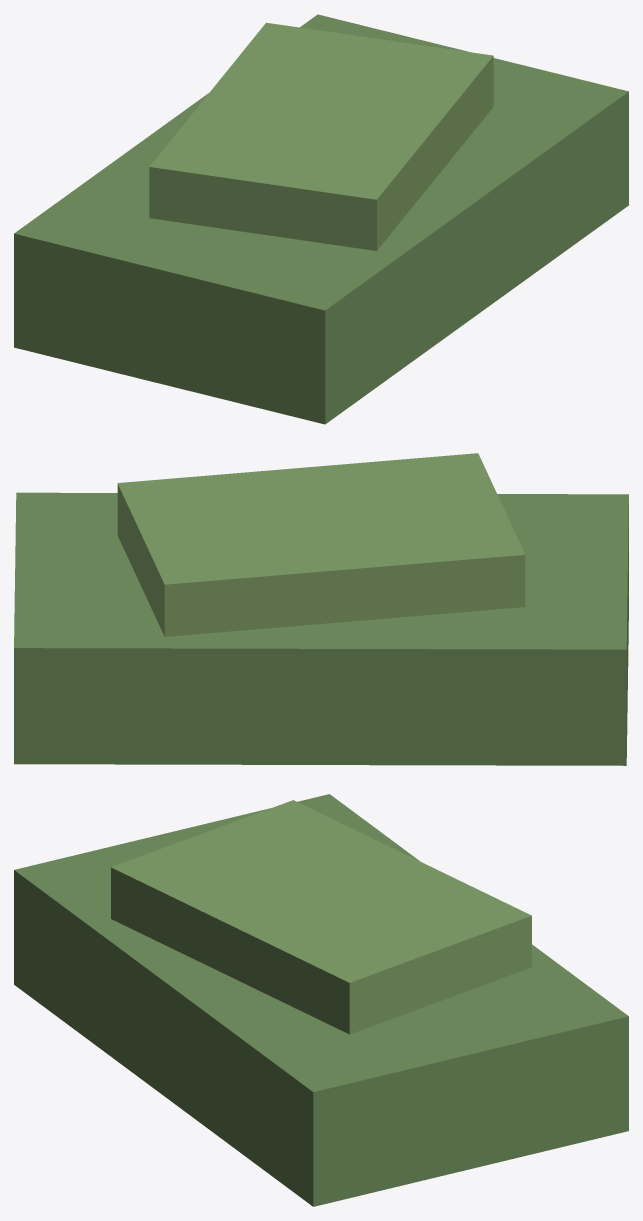
File: structure.glb
3 views of the same model, one above another, from view 1: azimuth 30°, elevation 25°; view 2: azimuth 150°, elevation 25°; view 3: azimuth 270°, elevation 25° (orthographic).
Parts seen in each view (by area): view 1: Box1, Box2; view 2: Box1, Box2; view 3: Box1, Box2.
Boxes of the visible parts, left/top/right/bottom form: Box1: left=14, top=14, right=628, bottom=424; Box2: left=149, top=22, right=493, bottom=250; Box1: left=14, top=492, right=628, bottom=765; Box2: left=117, top=453, right=525, bottom=636; Box1: left=14, top=794, right=628, bottom=1206; Box2: left=111, top=800, right=531, bottom=1034.
Size of the model in its own units: 118 by 30.77 by 103.
